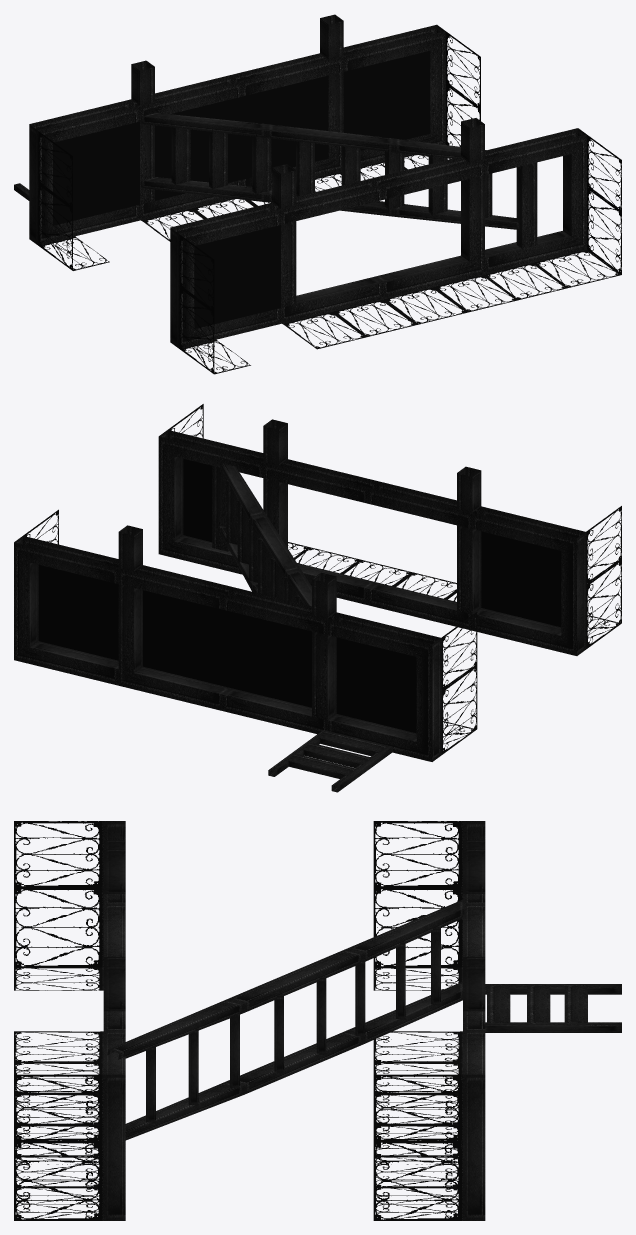
The model's file is wall_stairs.fbx.
The picture shows the model from 3 angles, top to bottom: view 1: azimuth 30°, elevation 25°; view 2: azimuth 150°, elevation 25°; view 3: azimuth 270°, elevation 25°; orthographic projection. The views are drawn at different scales.
Visible parts, largest first — view 1: Plane.014; view 2: Plane.014; view 3: Plane.014.
Boxes of the visible parts, left/top/right/bottom form: Plane.014: left=14, top=14, right=621, bottom=374; Plane.014: left=14, top=404, right=621, bottom=792; Plane.014: left=14, top=821, right=621, bottom=1220.
Size of the model in its own units: 364 by 128 by 369.
